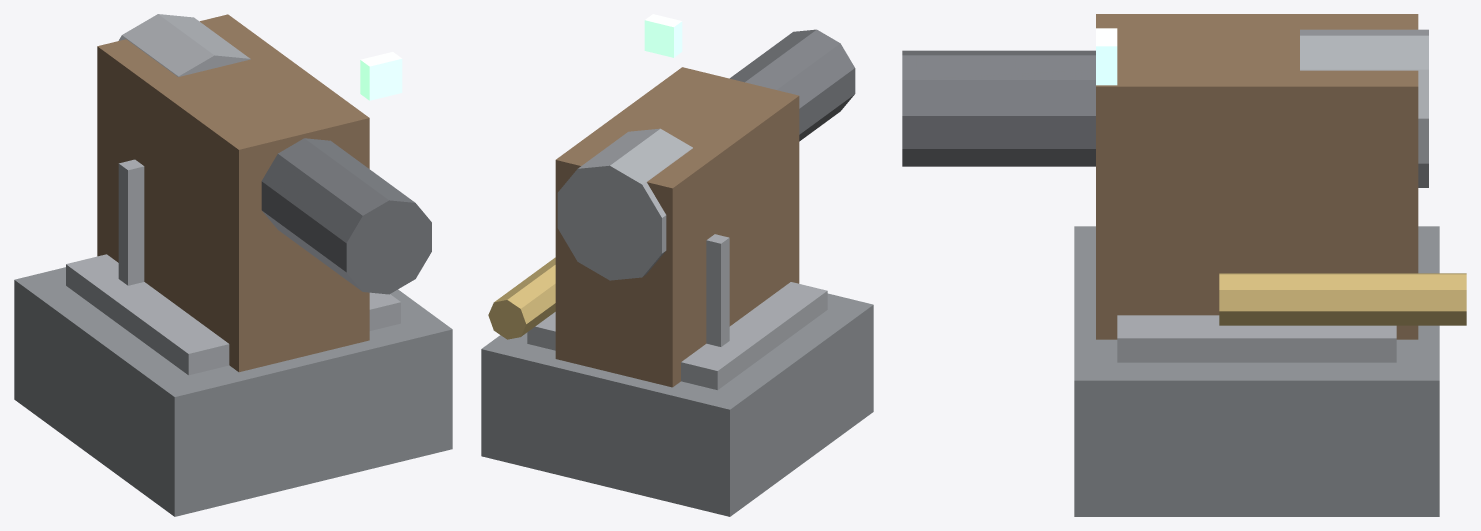
The model's file is shotgun_trap.glb.
3 renders of one model, left to right at view 1: azimuth 30°, elevation 25°; view 2: azimuth 150°, elevation 25°; view 3: azimuth 270°, elevation 25°, orthographic. The views are drawn at different scales.
Parts seen in each view (by area): view 1: shotgun_trap; view 2: shotgun_trap; view 3: shotgun_trap.
Boxes of the visible parts, x1,y1,x2,y2 form: shotgun_trap: (14, 14, 452, 516); shotgun_trap: (481, 14, 873, 516); shotgun_trap: (902, 14, 1466, 516).
Size of the model in its own units: 0.34 by 0.46 by 0.525.
